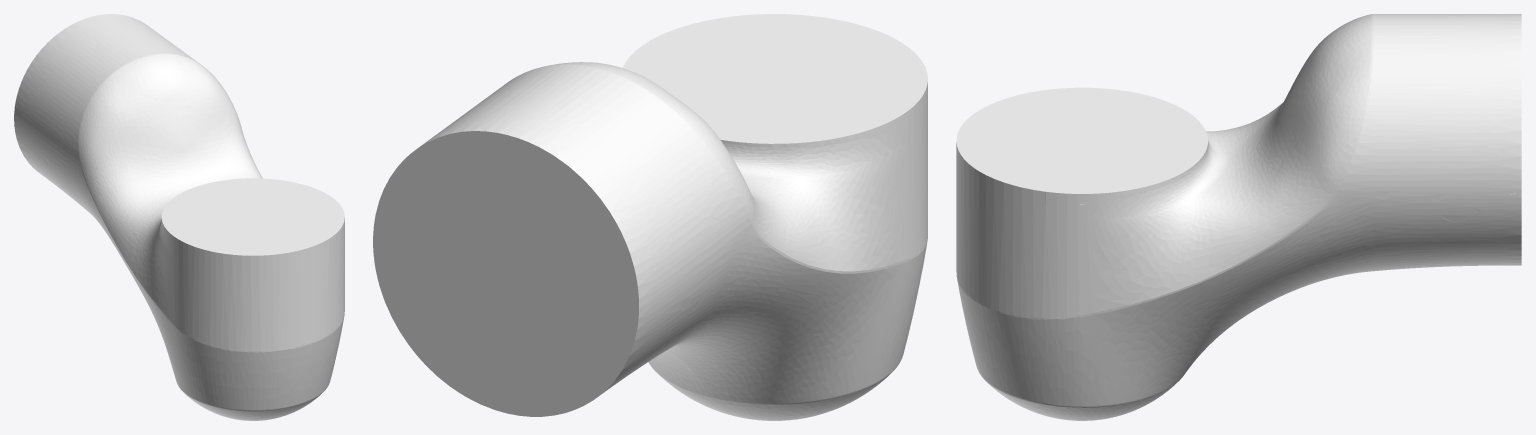
3 renders of one model, left to right at view 1: azimuth 30°, elevation 25°; view 2: azimuth 150°, elevation 25°; view 3: azimuth 270°, elevation 25°, orthographic. The views are drawn at different scales.
Parts seen in each view (by area): view 1: node0; view 2: node0; view 3: node0.
Boxes of the visible parts, <box> form: node0: <box>14,14,344,420</box>; node0: <box>373,14,927,420</box>; node0: <box>956,14,1521,420</box>.
Size of the model in its own units: 0.11 by 0.1844 by 0.247.
1 material, 1 textured.
